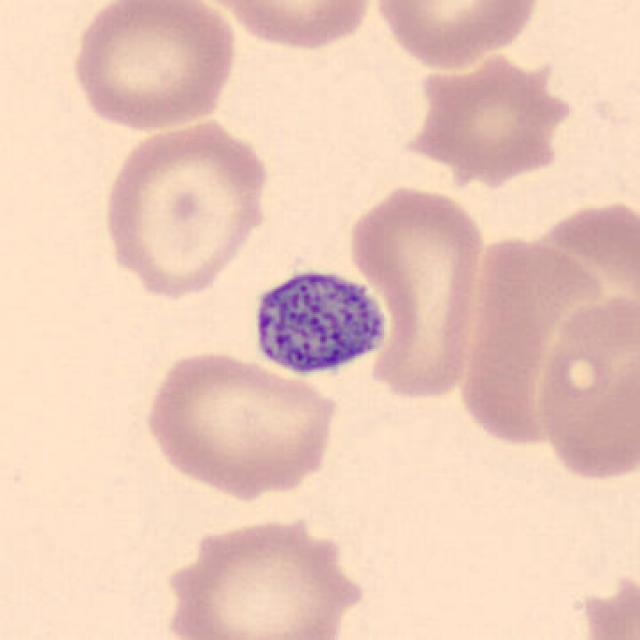Platelets: (242, 258, 393, 384)
RBC: (446, 234, 603, 462), (97, 115, 276, 303), (341, 178, 489, 400), (139, 346, 341, 500), (151, 511, 372, 640), (66, 0, 240, 134), (528, 286, 638, 488), (406, 48, 571, 179), (368, 0, 546, 72), (194, 0, 378, 53), (572, 567, 638, 640)
